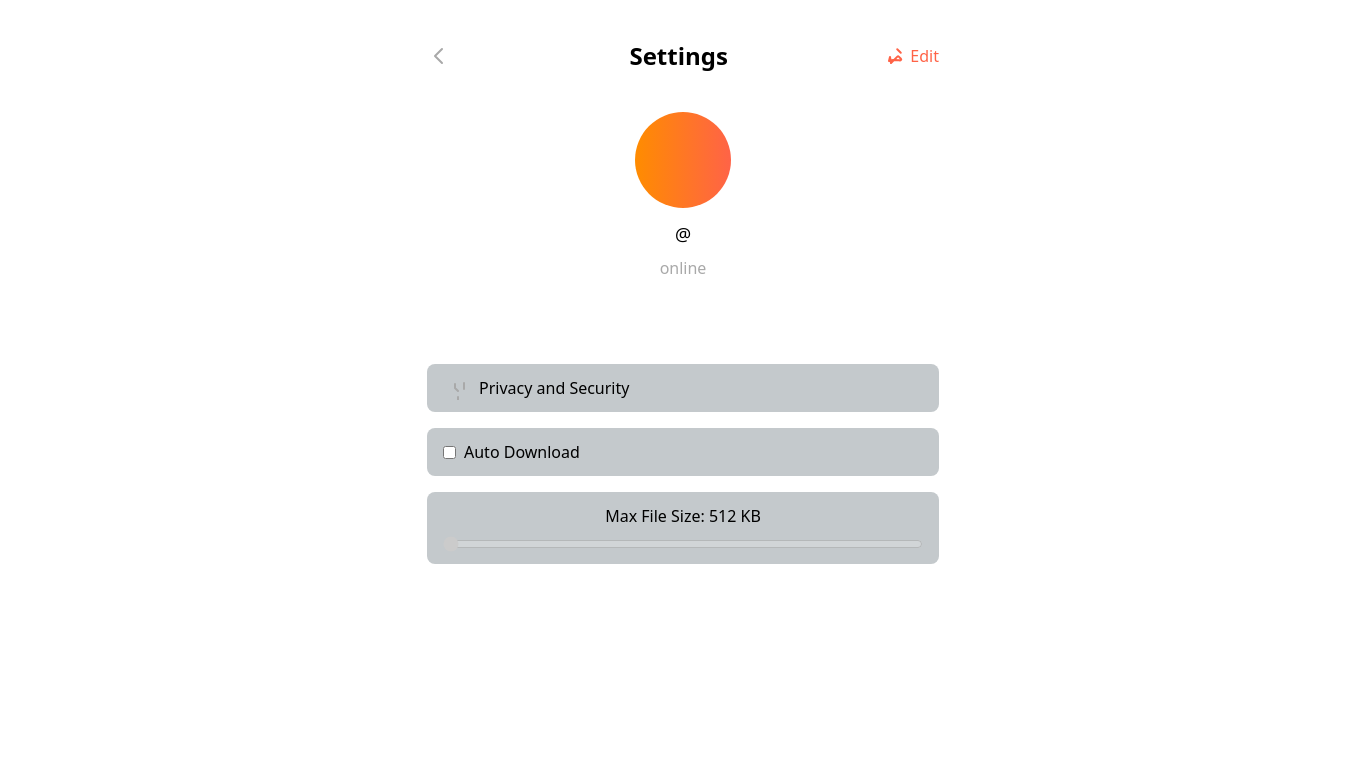
Test: Settings Component › navigates to privacy view when Privacy button is clicked
This screenshot has width=1366, height=768.
Click the button with test id "privacy".
click(554, 388)  # box [427,364,939,412]
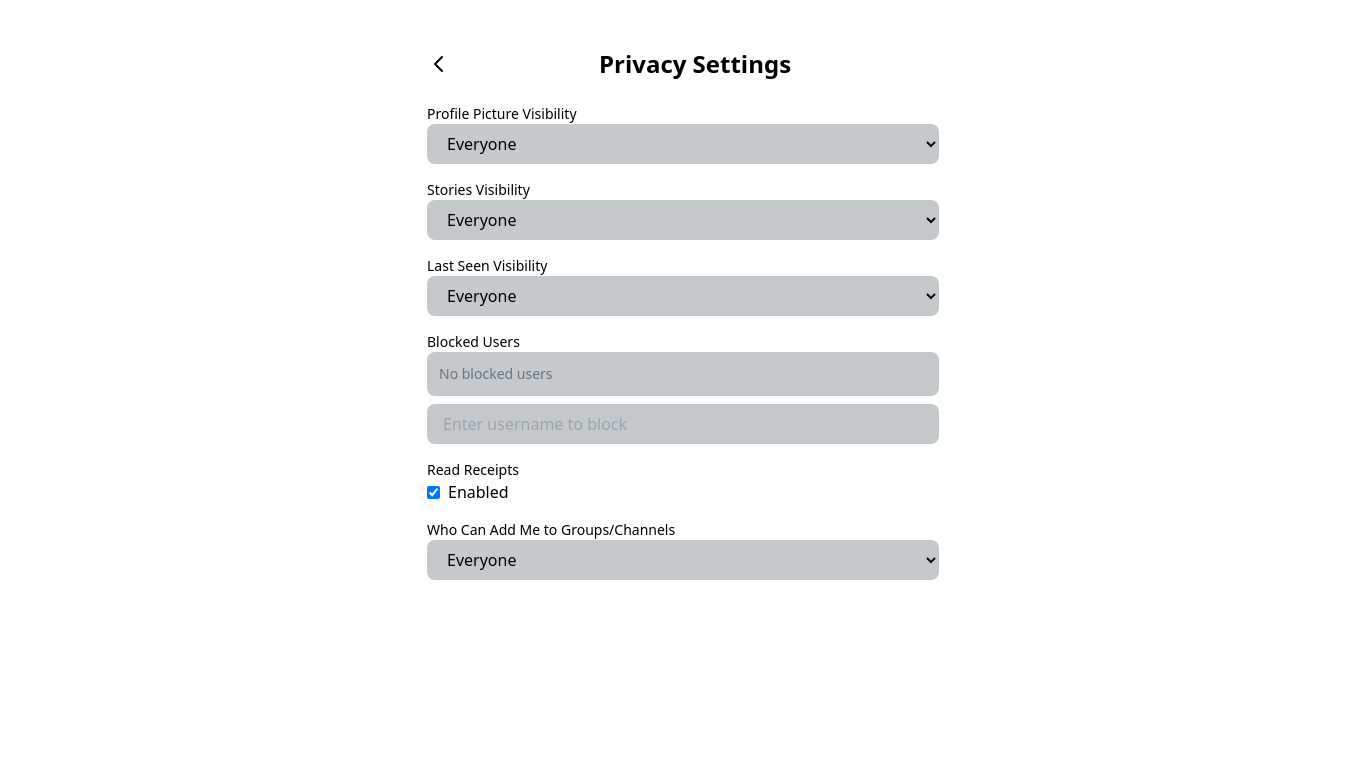
expect the heading "Privacy Settings" is shown: met, box [599,48,791,80]
